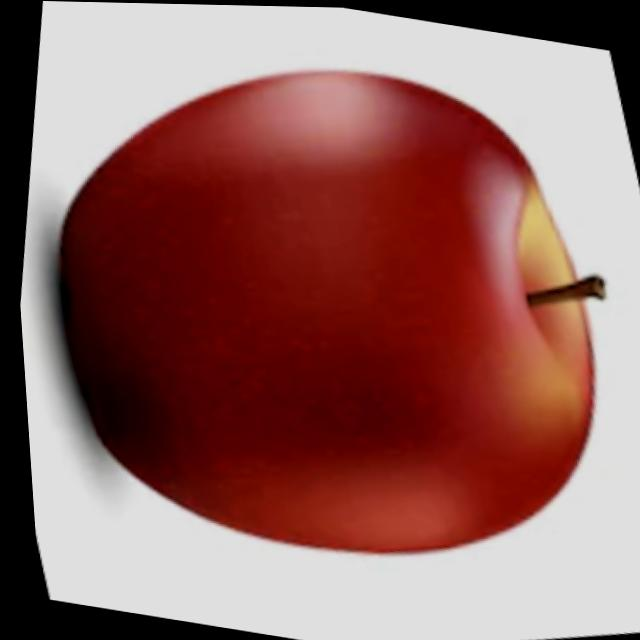organik: (1, 12, 640, 603)
